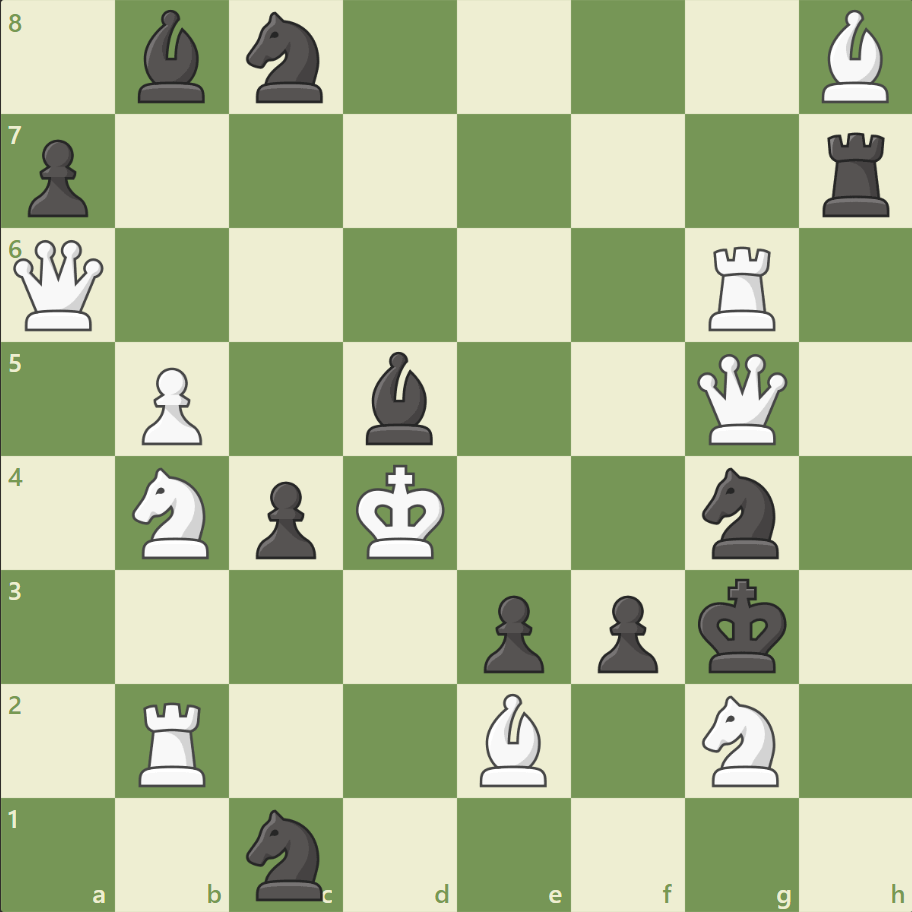B: (812, 6, 896, 109), (471, 687, 555, 790)
K: (351, 458, 451, 566)
N: (124, 461, 222, 564), (692, 688, 789, 791)
P: (133, 359, 208, 450)
Q: (691, 349, 790, 449), (10, 236, 109, 335)
R: (700, 239, 783, 336), (133, 693, 215, 790)
b: (131, 6, 215, 109), (358, 347, 442, 449)
k: (692, 571, 792, 679)
n: (238, 7, 335, 110), (692, 461, 789, 564), (238, 802, 335, 904)
p: (20, 132, 95, 223), (247, 473, 322, 564), (474, 586, 549, 677), (588, 586, 662, 677)
r: (814, 125, 897, 222)
